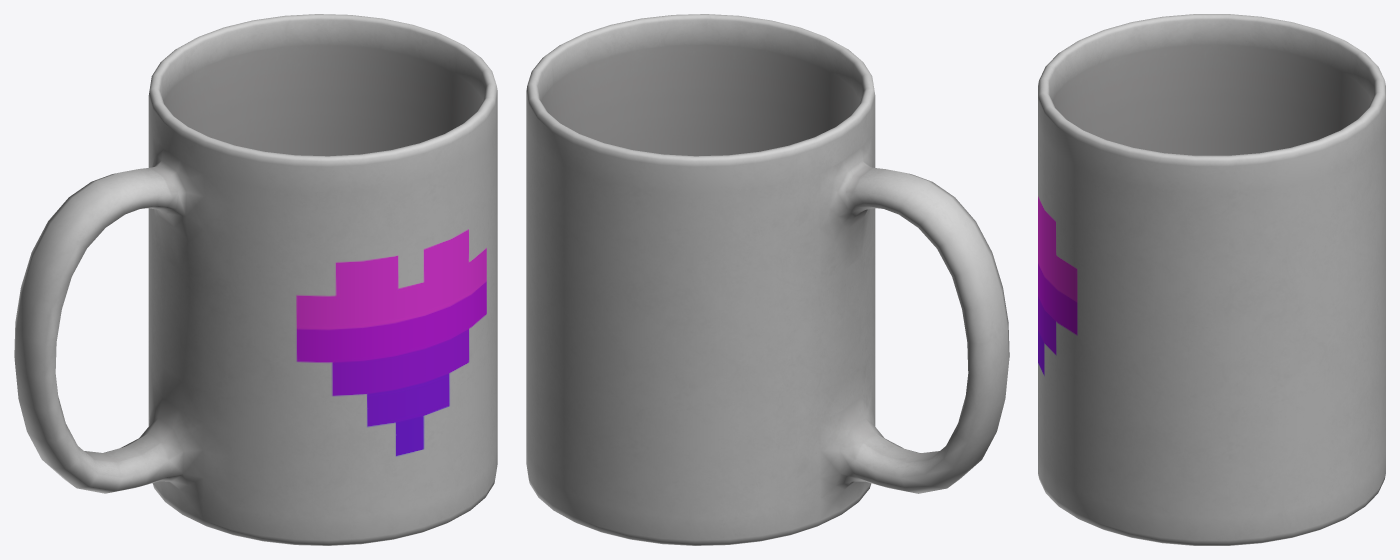
The model's file is GotchiMug.fbx.
3 views of the same model, side by side, from view 1: azimuth 30°, elevation 25°; view 2: azimuth 150°, elevation 25°; view 3: azimuth 270°, elevation 25° (orthographic).
Parts seen in each view (by area): view 1: GotchiMug; view 2: GotchiMug; view 3: GotchiMug.
Part boxes in pixels (box(x1,y1,x2,y2)): GotchiMug: box(14, 14, 497, 545); GotchiMug: box(526, 14, 1009, 545); GotchiMug: box(1038, 14, 1385, 545).
Size of the model in its own units: 4.64 by 3.81 by 3.09.
